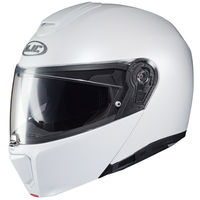with_helmet: (6, 1, 198, 198)
